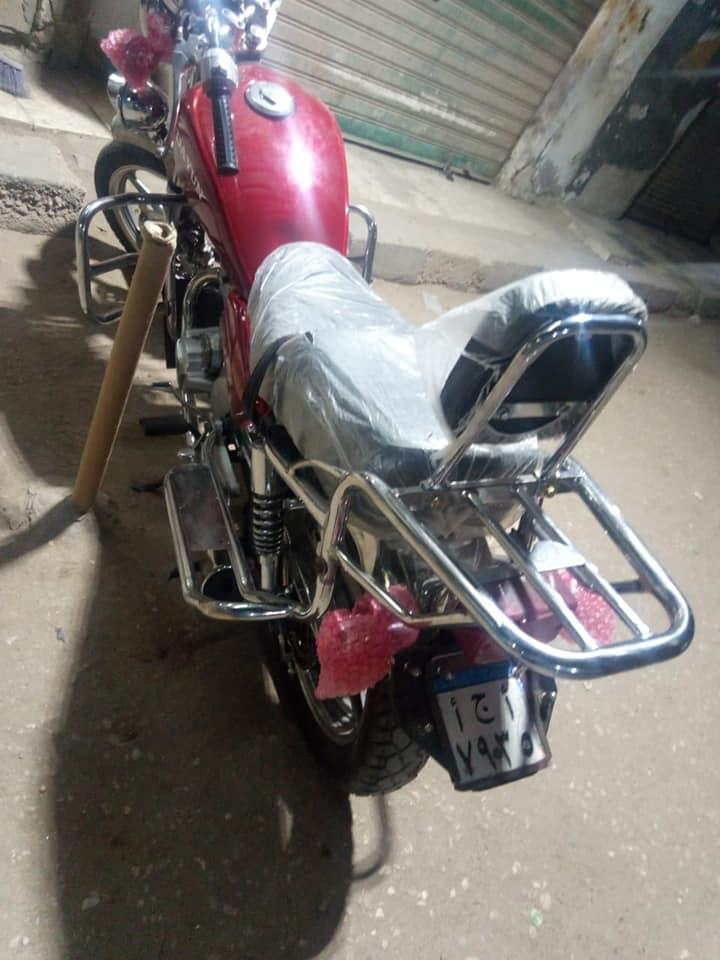License Plate: (426, 657, 547, 789)
